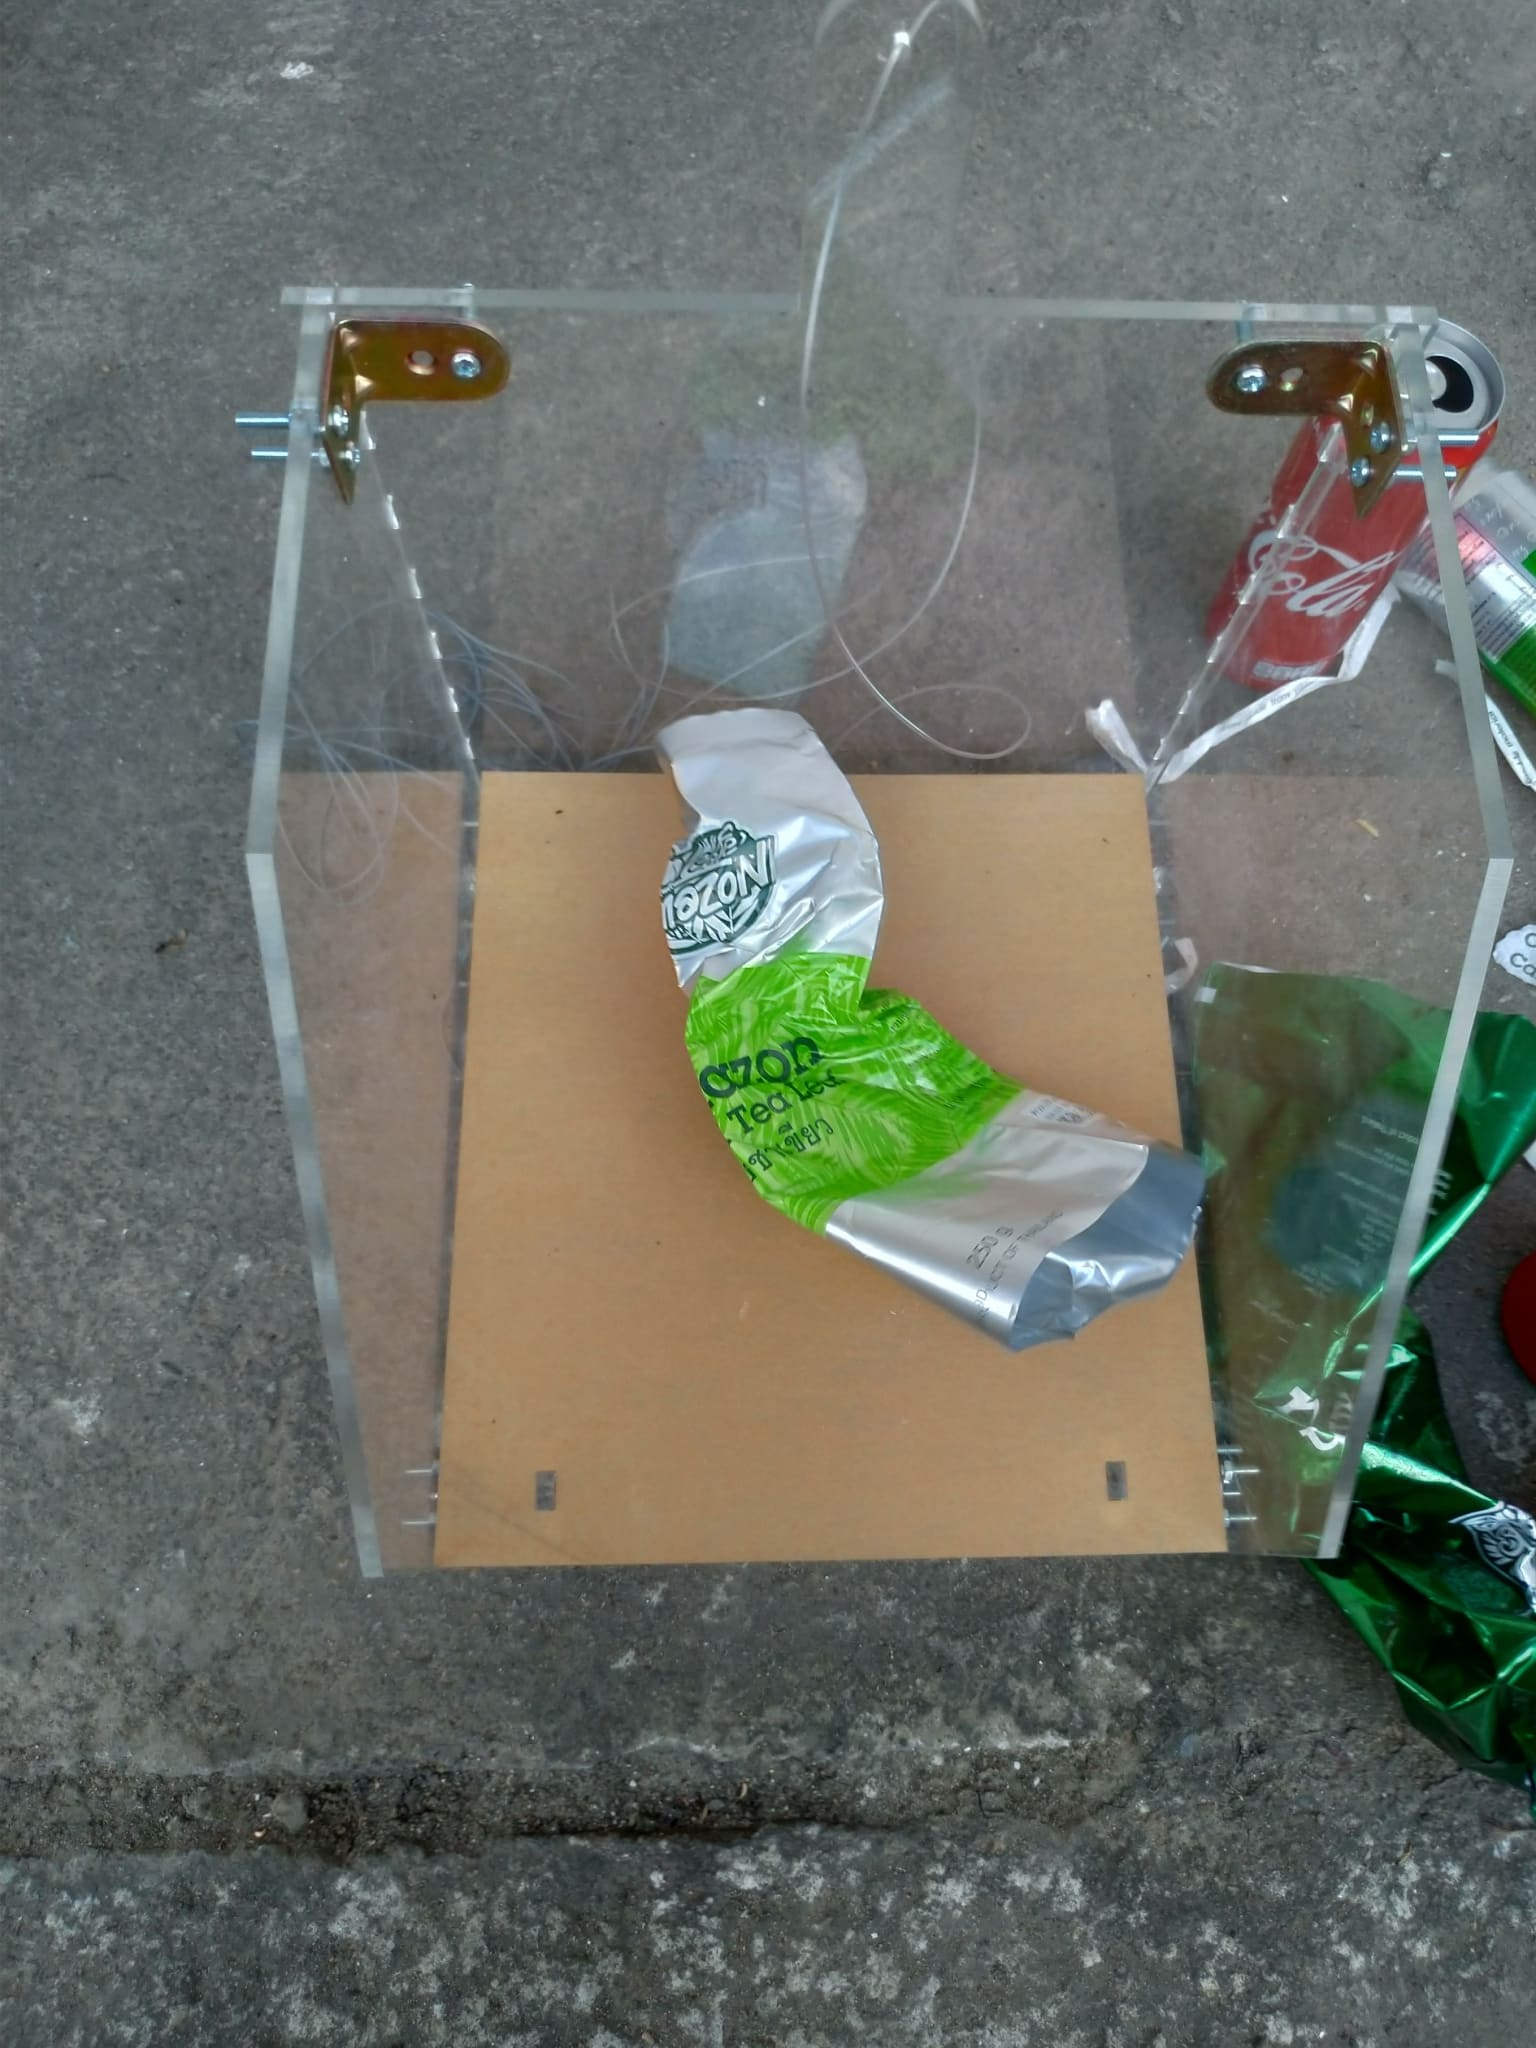AlCan: (1204, 305, 1504, 689)
Others: (657, 705, 1204, 1342), (1184, 951, 1536, 1779)
